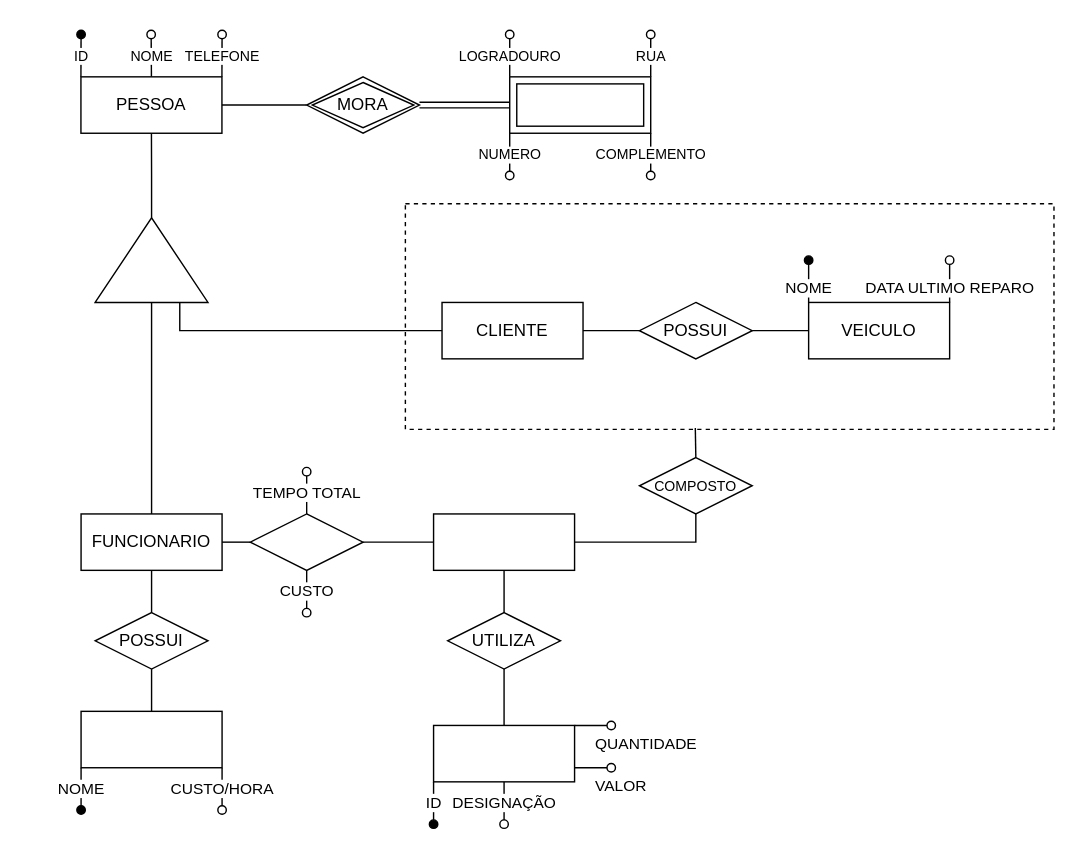
Image size: 1079x860. Some labels were removed from this diagram. The centre of each missing label's shape, as x and y in pixels:
"CATEGORIA PROFISSIONAL" belongs at (151,739).
"ENDEREÇO" belongs at (579,104).
"PEÇA ESTOQUE" belongs at (503,753).
"REALIZA" belongs at (306,541).
"REPARO" belongs at (503,541).
